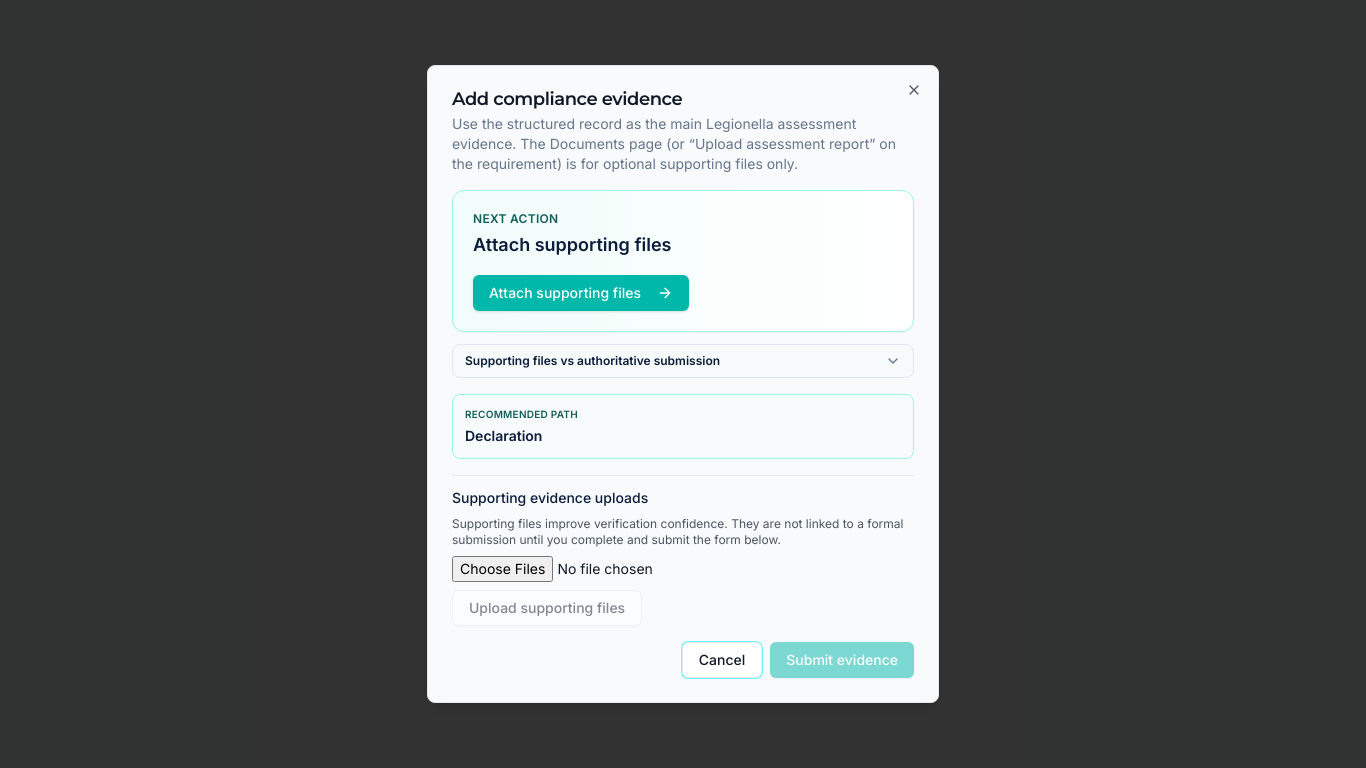
ComplianceEvidenceResolveModal CTA focus › shows fallback when focus target is missing
Click the button with test id "next-action-hero-primary" at {"x": 581, "y": 293}, box [473, 275, 689, 311]
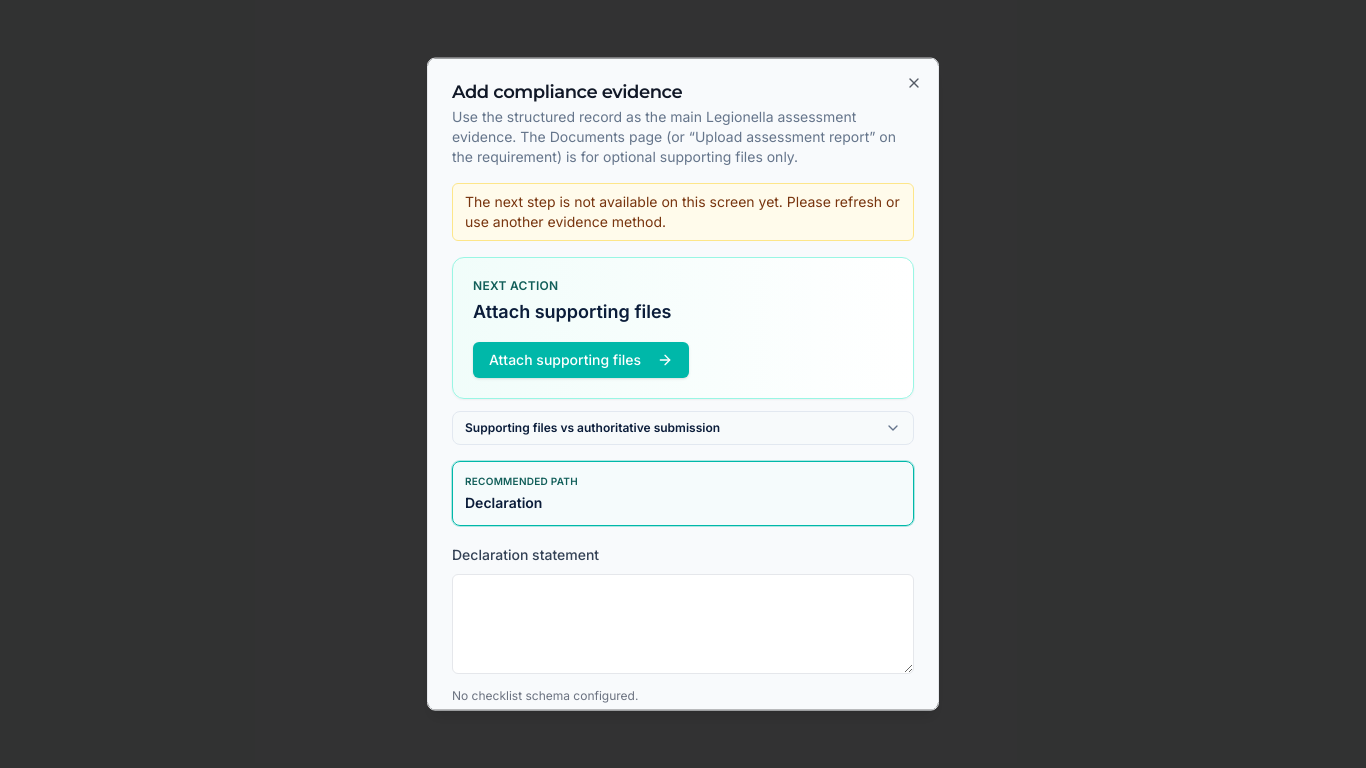
expect the message with test id "modal-cta-focus-fallback" is shown: met, box [452, 183, 914, 241]
